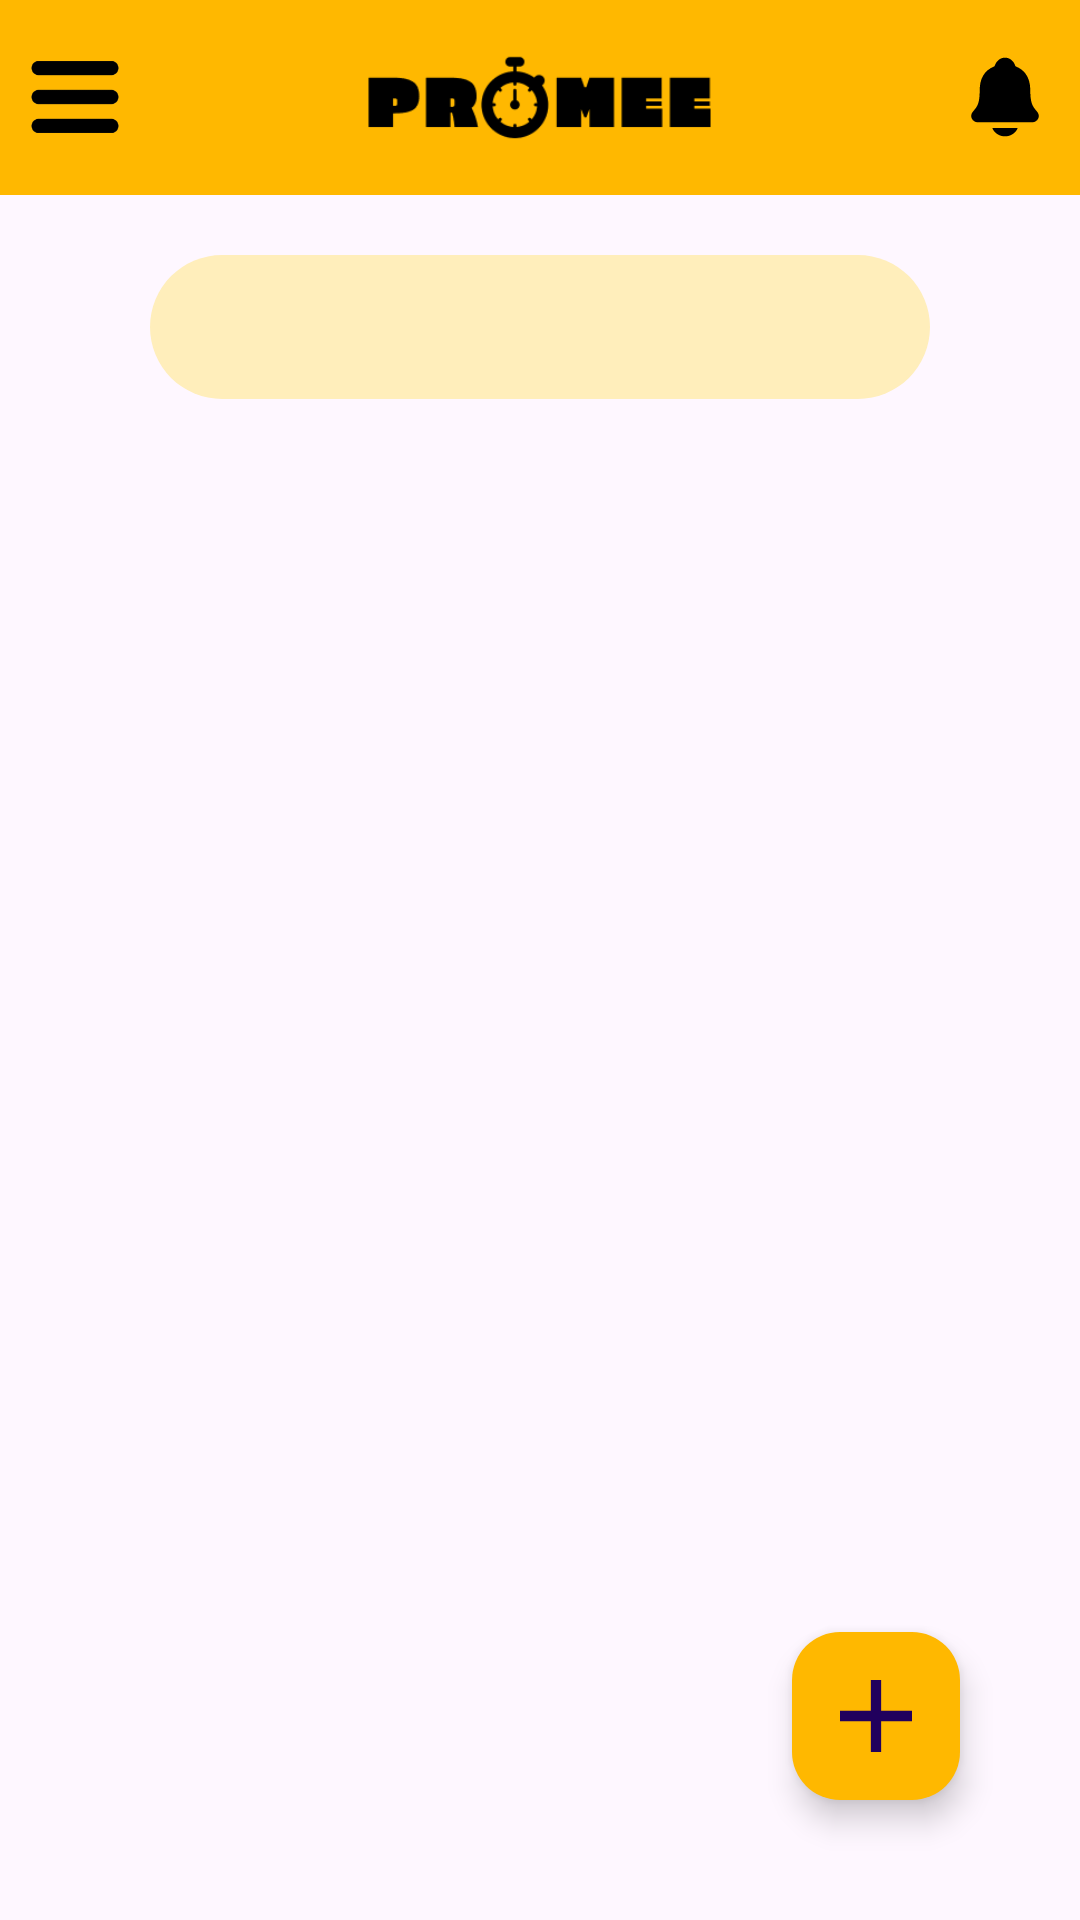

Icon bounding boxes for this 1080px×1920px phone screenshot, format (left=x1, top=y1, right=x2, bottom=y2):
bell: (left=971, top=57, right=1039, bottom=137)
create task: (left=792, top=1632, right=960, bottom=1800)
menu: (left=31, top=61, right=119, bottom=133)
